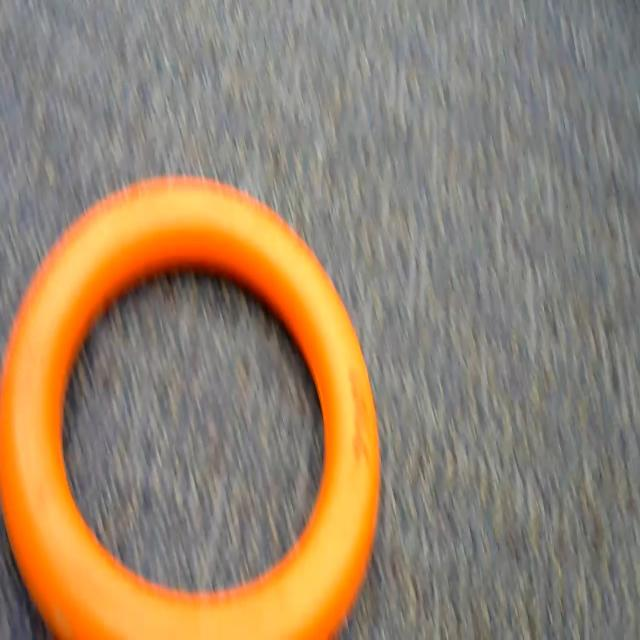note: (0, 168, 388, 640)
